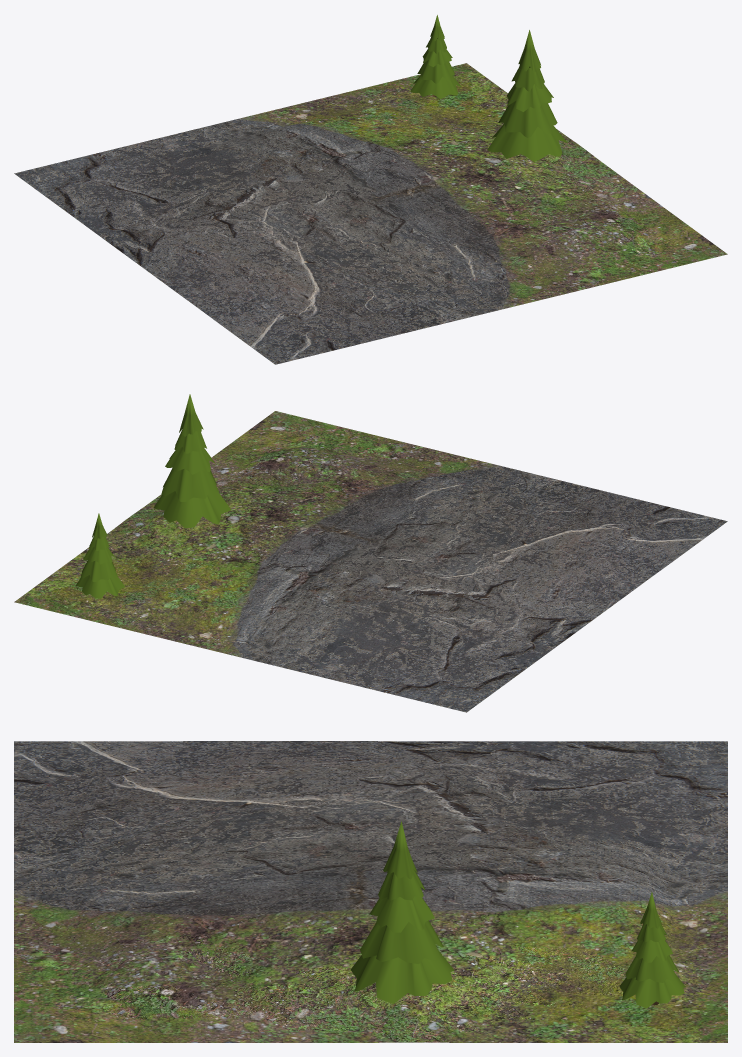
File: MFMF.fbx
The picture shows the model from 3 angles, top to bottom: view 1: azimuth 30°, elevation 25°; view 2: azimuth 150°, elevation 25°; view 3: azimuth 270°, elevation 25°; orthographic projection. The views are drawn at different scales.
Visible parts, largest first — view 1: Plane, Resource_PineTree_Group.031, Resource_PineTree_Group.032, Resource_PineTree_Group.033, Resource_PineTree_Group.005; view 2: Plane, Resource_PineTree_Group.031, Resource_PineTree_Group.032, Resource_PineTree_Group.033, Resource_PineTree_Group.005, Resource_PineTree_Group.004, Resource_PineTree_Group.035; view 3: Plane, Resource_PineTree_Group.031, Resource_PineTree_Group.032, Resource_PineTree_Group.033, Resource_PineTree_Group.005, Resource_PineTree_Group.004, Resource_PineTree_Group.034, Resource_PineTree_Group.035, Resource_PineTree_Group.003.
Boxes of the visible parts, x1=… form: Plane: x1=14, y1=63, x2=727, y2=364; Resource_PineTree_Group.031: x1=487, y1=124, x2=567, y2=161; Resource_PineTree_Group.032: x1=498, y1=101, x2=557, y2=137; Resource_PineTree_Group.033: x1=506, y1=83, x2=553, y2=111; Resource_PineTree_Group.005: x1=410, y1=75, x2=461, y2=98; Plane: x1=14, y1=411, x2=727, y2=712; Resource_PineTree_Group.031: x1=153, y1=490, x2=230, y2=528; Resource_PineTree_Group.032: x1=161, y1=468, x2=219, y2=501; Resource_PineTree_Group.033: x1=165, y1=447, x2=215, y2=474; Resource_PineTree_Group.005: x1=75, y1=574, x2=124, y2=598; Resource_PineTree_Group.004: x1=80, y1=560, x2=117, y2=581; Resource_PineTree_Group.035: x1=179, y1=394, x2=203, y2=436; Plane: x1=14, y1=741, x2=727, y2=1042; Resource_PineTree_Group.031: x1=350, y1=949, x2=454, y2=1003; Resource_PineTree_Group.032: x1=360, y1=920, x2=443, y2=963; Resource_PineTree_Group.033: x1=369, y1=896, x2=434, y2=932; Resource_PineTree_Group.005: x1=619, y1=974, x2=685, y2=1008; Resource_PineTree_Group.004: x1=625, y1=955, x2=678, y2=982; Resource_PineTree_Group.034: x1=378, y1=868, x2=425, y2=900; Resource_PineTree_Group.035: x1=383, y1=821, x2=417, y2=879; Resource_PineTree_Group.003: x1=631, y1=939, x2=672, y2=962.
Size of the model in its own units: 500 by 145 by 500.
